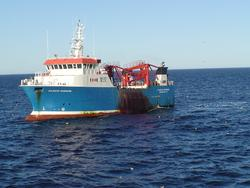Cargoship: (18, 17, 176, 123)
